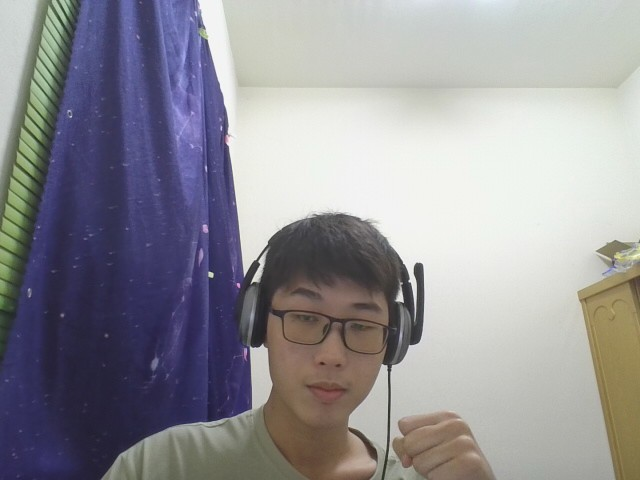No_Gloves: (389, 408, 502, 480)
No_Helmet: (238, 207, 424, 436)
person: (10, 196, 568, 480)
